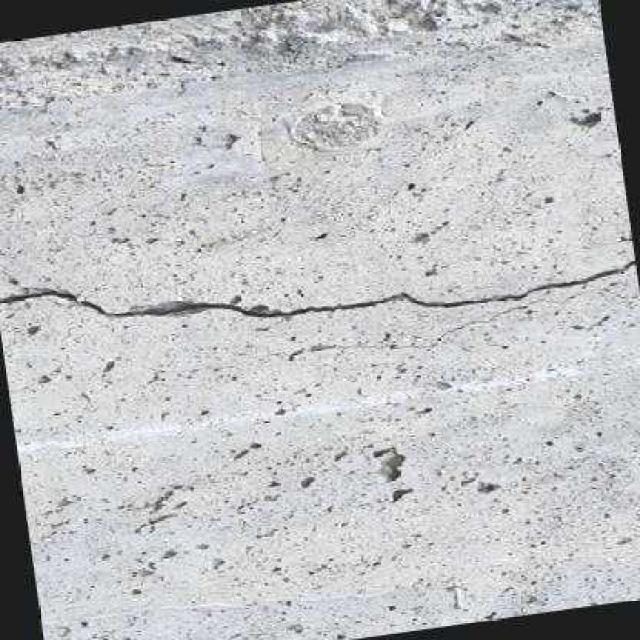D00: (0, 257, 636, 319)
